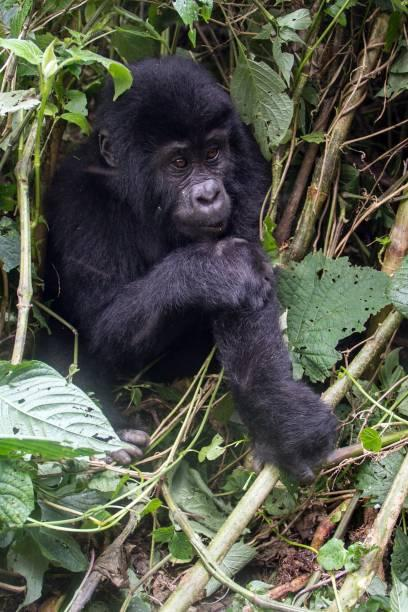goriile_montagne: (17, 35, 363, 489)
